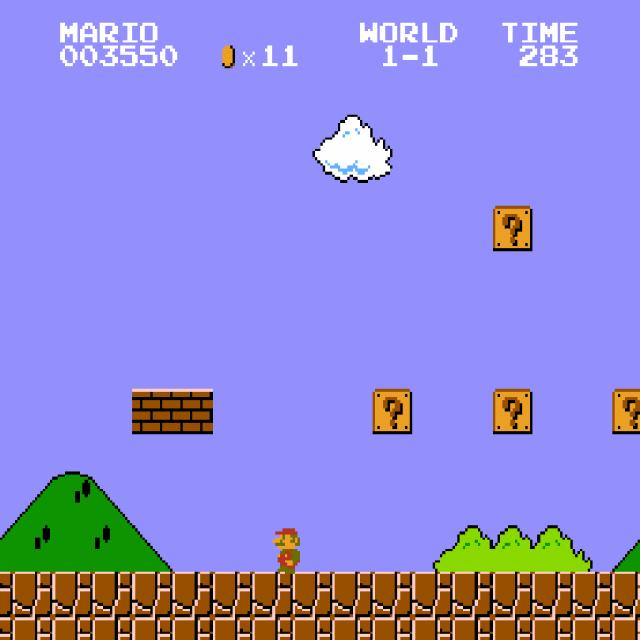brick_block: (132, 389, 173, 434), (172, 389, 213, 434)
little_mario: (265, 526, 308, 574)
mystery_block: (372, 389, 413, 434), (492, 206, 533, 251), (492, 389, 533, 434), (612, 389, 640, 434)
undestructible_block: (12, 572, 53, 617), (52, 572, 93, 617), (92, 572, 133, 617), (132, 572, 173, 617), (172, 572, 213, 617), (212, 572, 253, 617), (252, 572, 293, 617), (292, 572, 333, 617), (332, 572, 373, 617), (372, 572, 413, 617), (412, 572, 453, 617), (452, 572, 493, 617), (492, 572, 533, 617), (532, 572, 573, 617), (572, 572, 613, 617), (612, 572, 640, 617), (12, 617, 53, 640), (52, 617, 93, 640), (92, 617, 133, 640), (132, 617, 173, 640), (172, 617, 213, 640), (212, 617, 253, 640), (252, 617, 293, 640), (292, 617, 333, 640), (332, 617, 373, 640), (372, 617, 413, 640), (412, 617, 453, 640), (452, 617, 493, 640), (492, 617, 533, 640), (532, 617, 573, 640), (572, 617, 613, 640), (612, 617, 640, 640), (0, 572, 13, 617), (0, 617, 13, 640)
